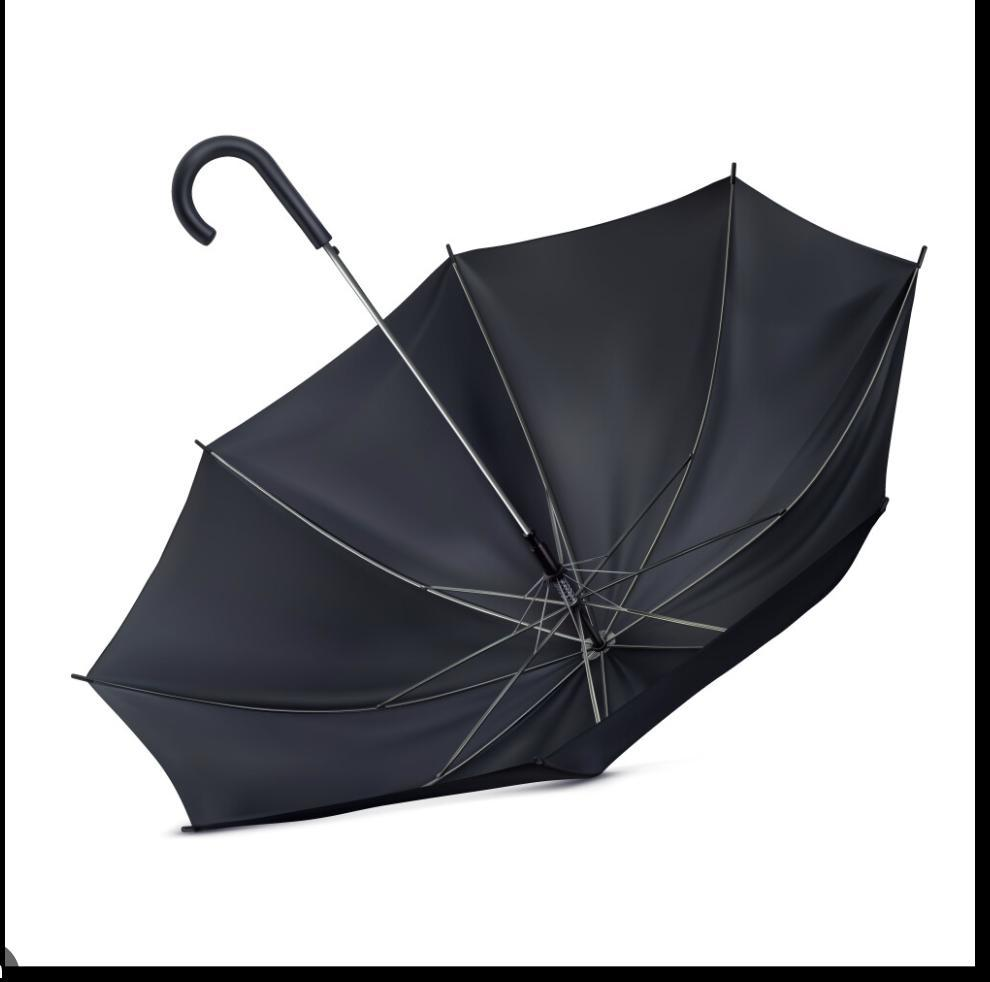Umbrella: (72, 153, 930, 837)
